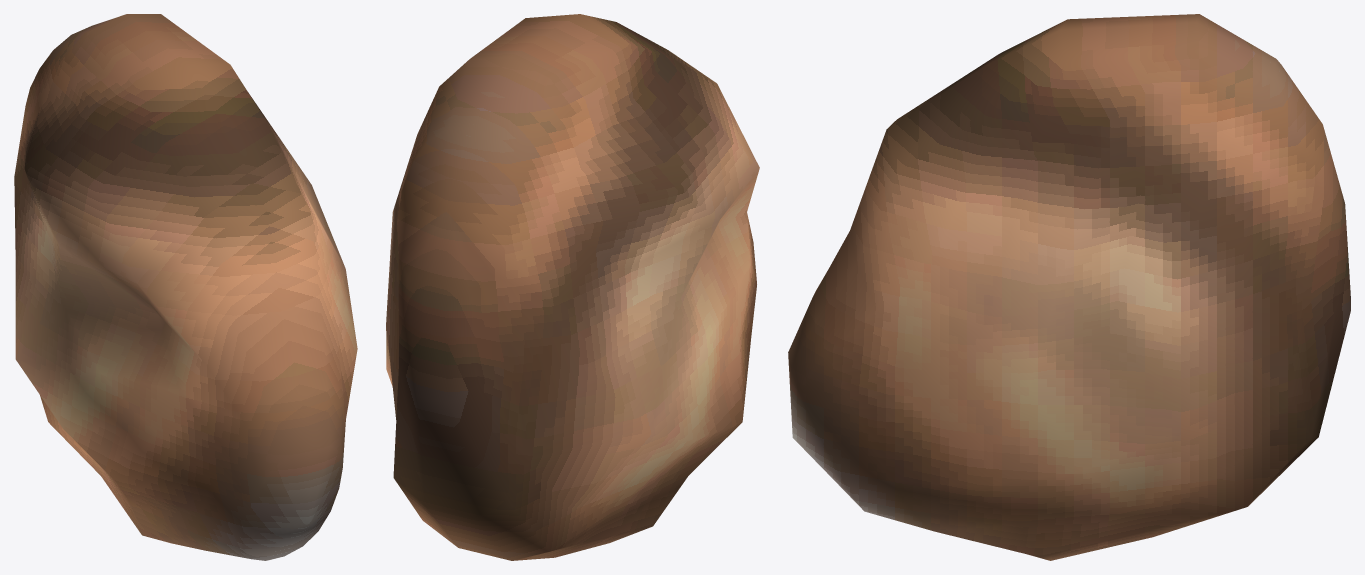
File: THROWINGSTONE.obj
3 renders of one model, left to right at view 1: azimuth 30°, elevation 25°; view 2: azimuth 150°, elevation 25°; view 3: azimuth 270°, elevation 25°, orthographic. The views are drawn at different scales.
Parts seen in each view (by area): view 1: Sphere01; view 2: Sphere01; view 3: Sphere01.
Part boxes in pixels (x1,y1,x2,y2): Sphere01: (14,14,357,560); Sphere01: (386,14,759,560); Sphere01: (788,14,1350,560).
Bounding box in the file's own units: 8.08 × 14.53 × 14.07.
